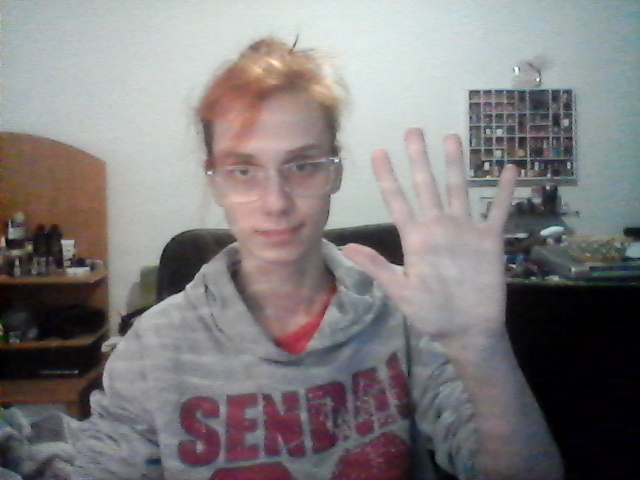ahoj: (333, 124, 526, 346)
